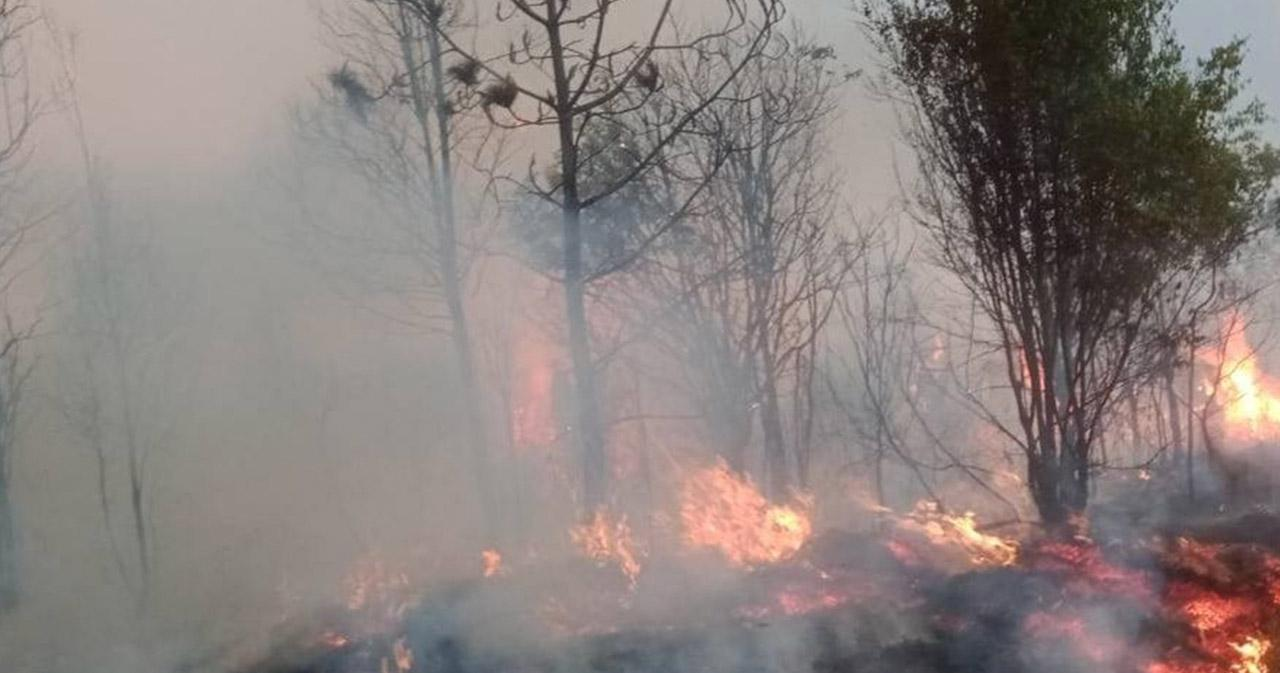fire: (998, 300, 1280, 673), (493, 319, 663, 598), (1159, 209, 1280, 524), (680, 383, 844, 614), (260, 492, 438, 673), (863, 413, 1020, 576)
